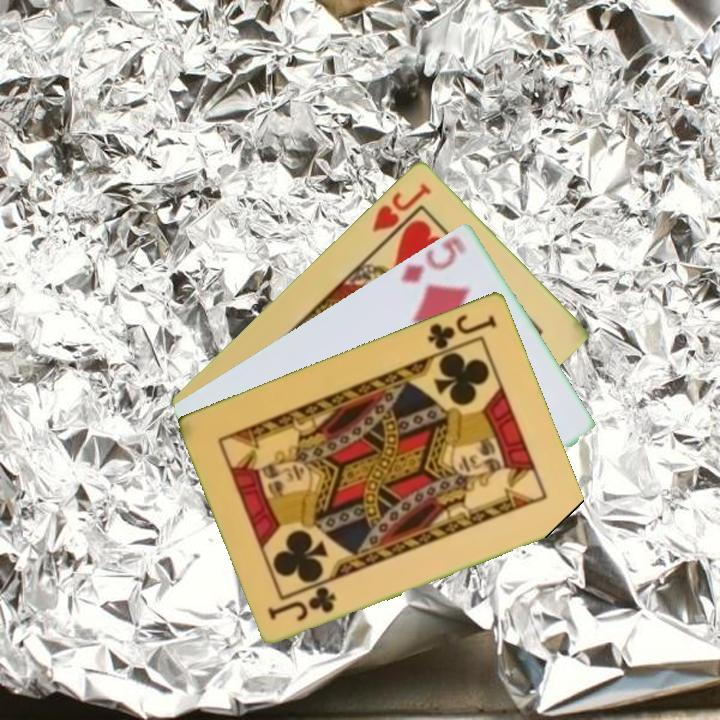5d: (397, 233, 469, 286)
Jc: (424, 310, 500, 353), (264, 583, 340, 624)
Jh: (368, 179, 435, 248)
